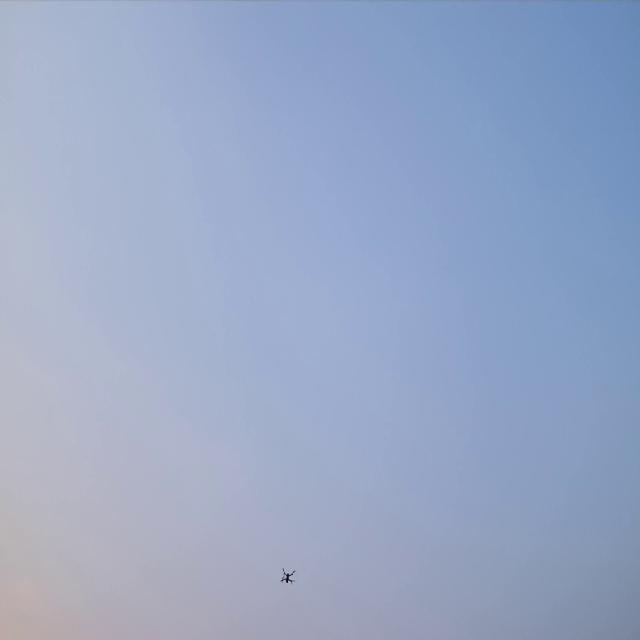UAV: (280, 566, 296, 584)
